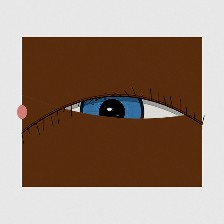hemorrhage_spot: (89, 98, 149, 147)
